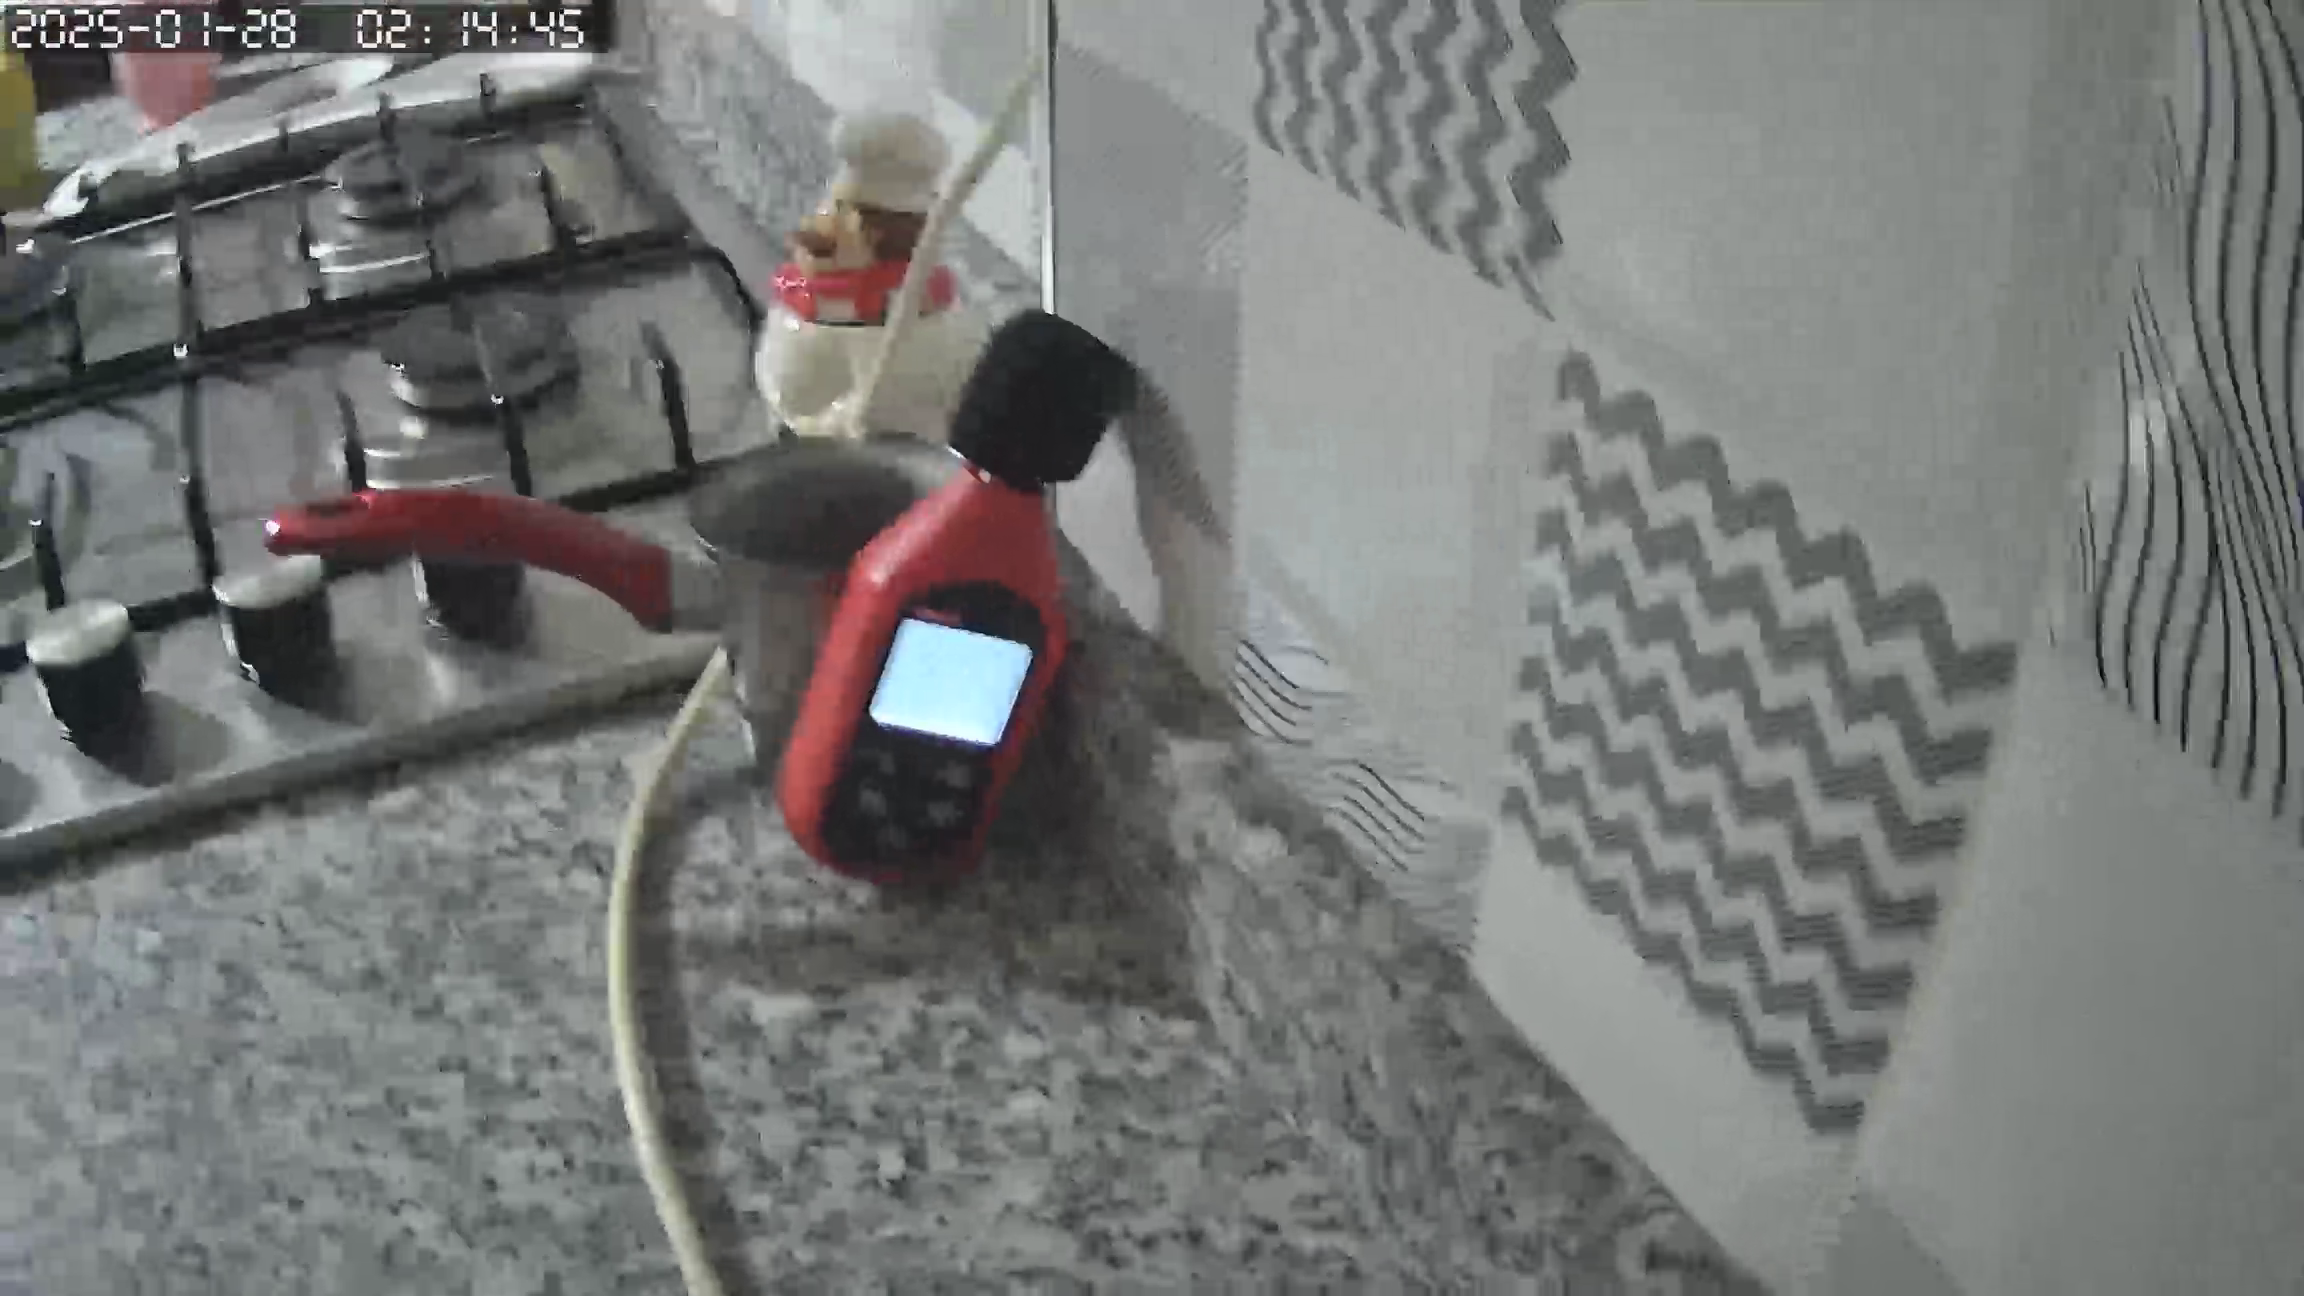screen: (877, 617, 1035, 745)
